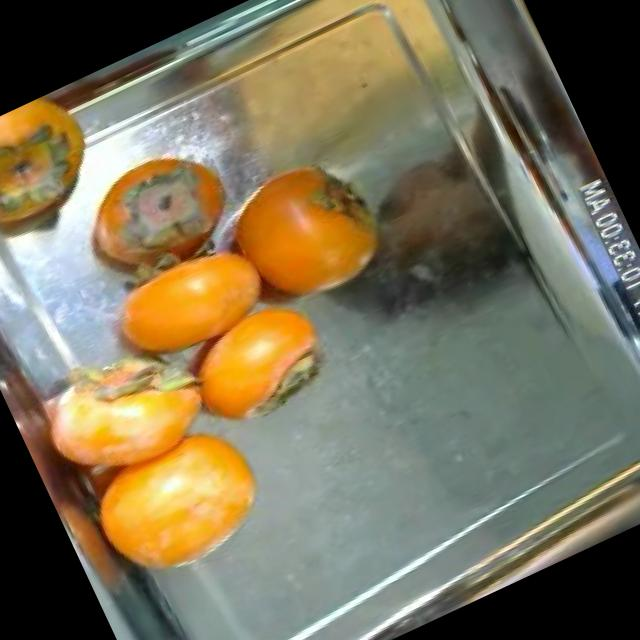Fruit: (170, 124, 421, 358), (47, 390, 298, 618), (316, 106, 548, 336), (44, 114, 264, 310), (154, 275, 364, 458), (0, 81, 131, 287)
